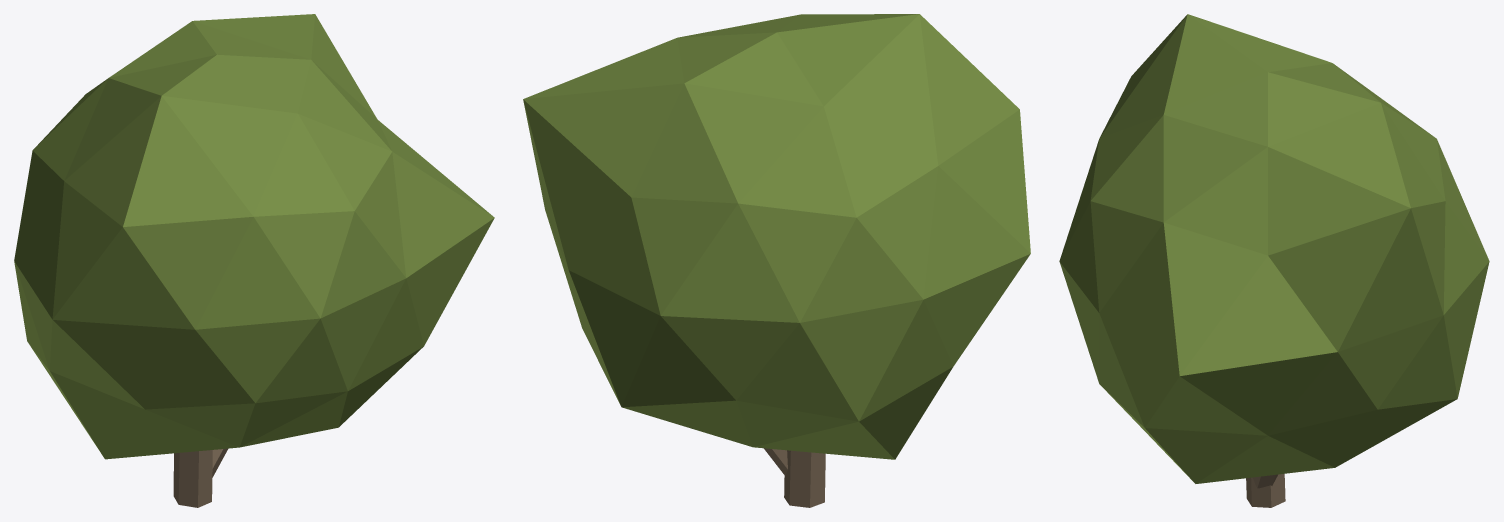
Rendered from Foliage_Bush_1.fbx.
3 views of the same model, side by side, from view 1: azimuth 30°, elevation 25°; view 2: azimuth 150°, elevation 25°; view 3: azimuth 270°, elevation 25° (orthographic). The views are drawn at different scales.
Visible parts, largest first — view 1: Cylinder.006; view 2: Cylinder.006; view 3: Cylinder.006.
Part boxes in pixels (x1,y1,x2,y2): Cylinder.006: [14, 14, 494, 507]; Cylinder.006: [523, 14, 1030, 507]; Cylinder.006: [1059, 14, 1489, 507].
Size of the model in its own units: 89.46 by 88.08 by 75.89.
